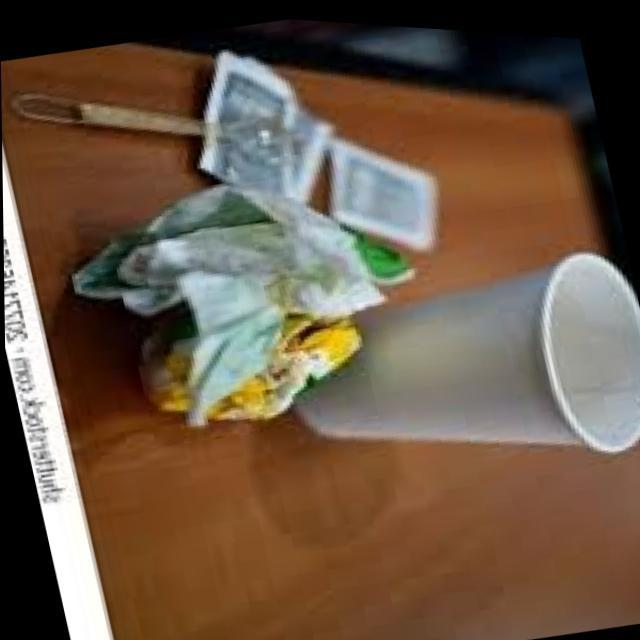food: (69, 128, 458, 457)
leaf: (277, 226, 640, 510), (1, 30, 323, 209)
wood: (167, 27, 362, 224), (308, 111, 456, 262)
